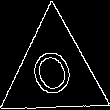O_SE: (26, 39, 82, 105)
